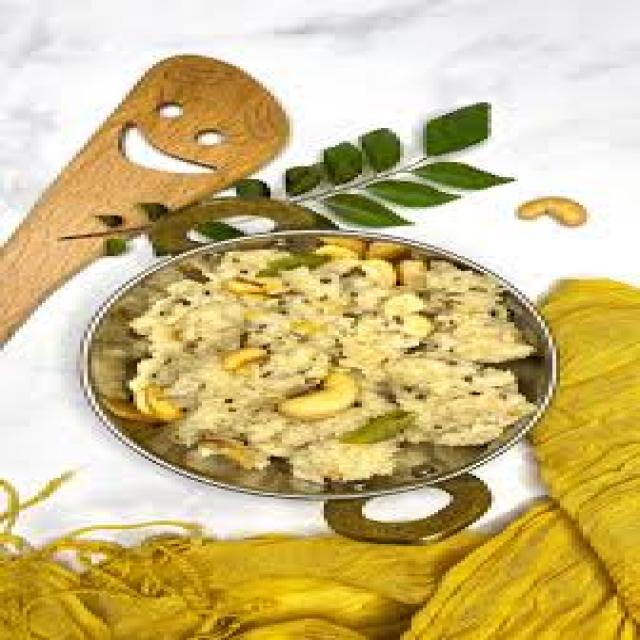POHA: (114, 241, 526, 486)
